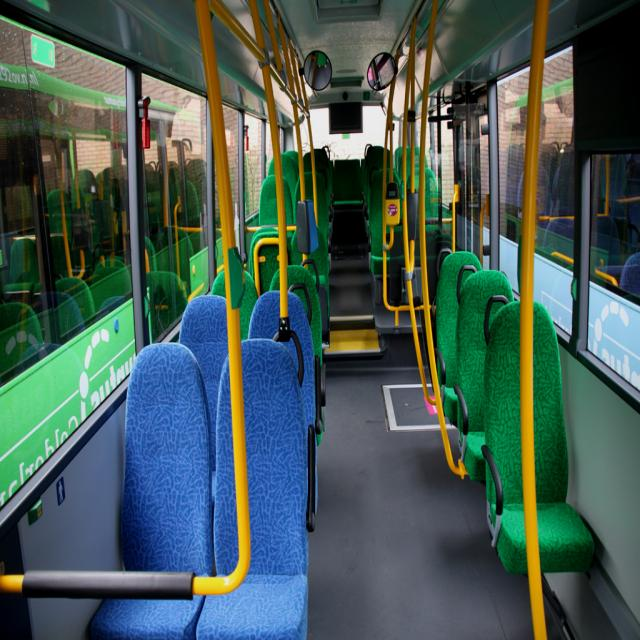asiento-libre: (195, 339, 308, 639), (120, 343, 209, 575), (456, 268, 514, 481), (482, 303, 527, 576), (179, 295, 228, 504), (436, 252, 482, 422), (288, 291, 317, 531), (288, 266, 325, 448), (314, 152, 331, 250), (369, 169, 383, 275), (333, 159, 363, 208), (365, 146, 383, 219), (281, 155, 297, 223), (241, 273, 257, 341), (259, 175, 277, 226), (316, 174, 328, 248), (425, 168, 438, 220), (284, 149, 299, 180), (395, 147, 403, 178)
